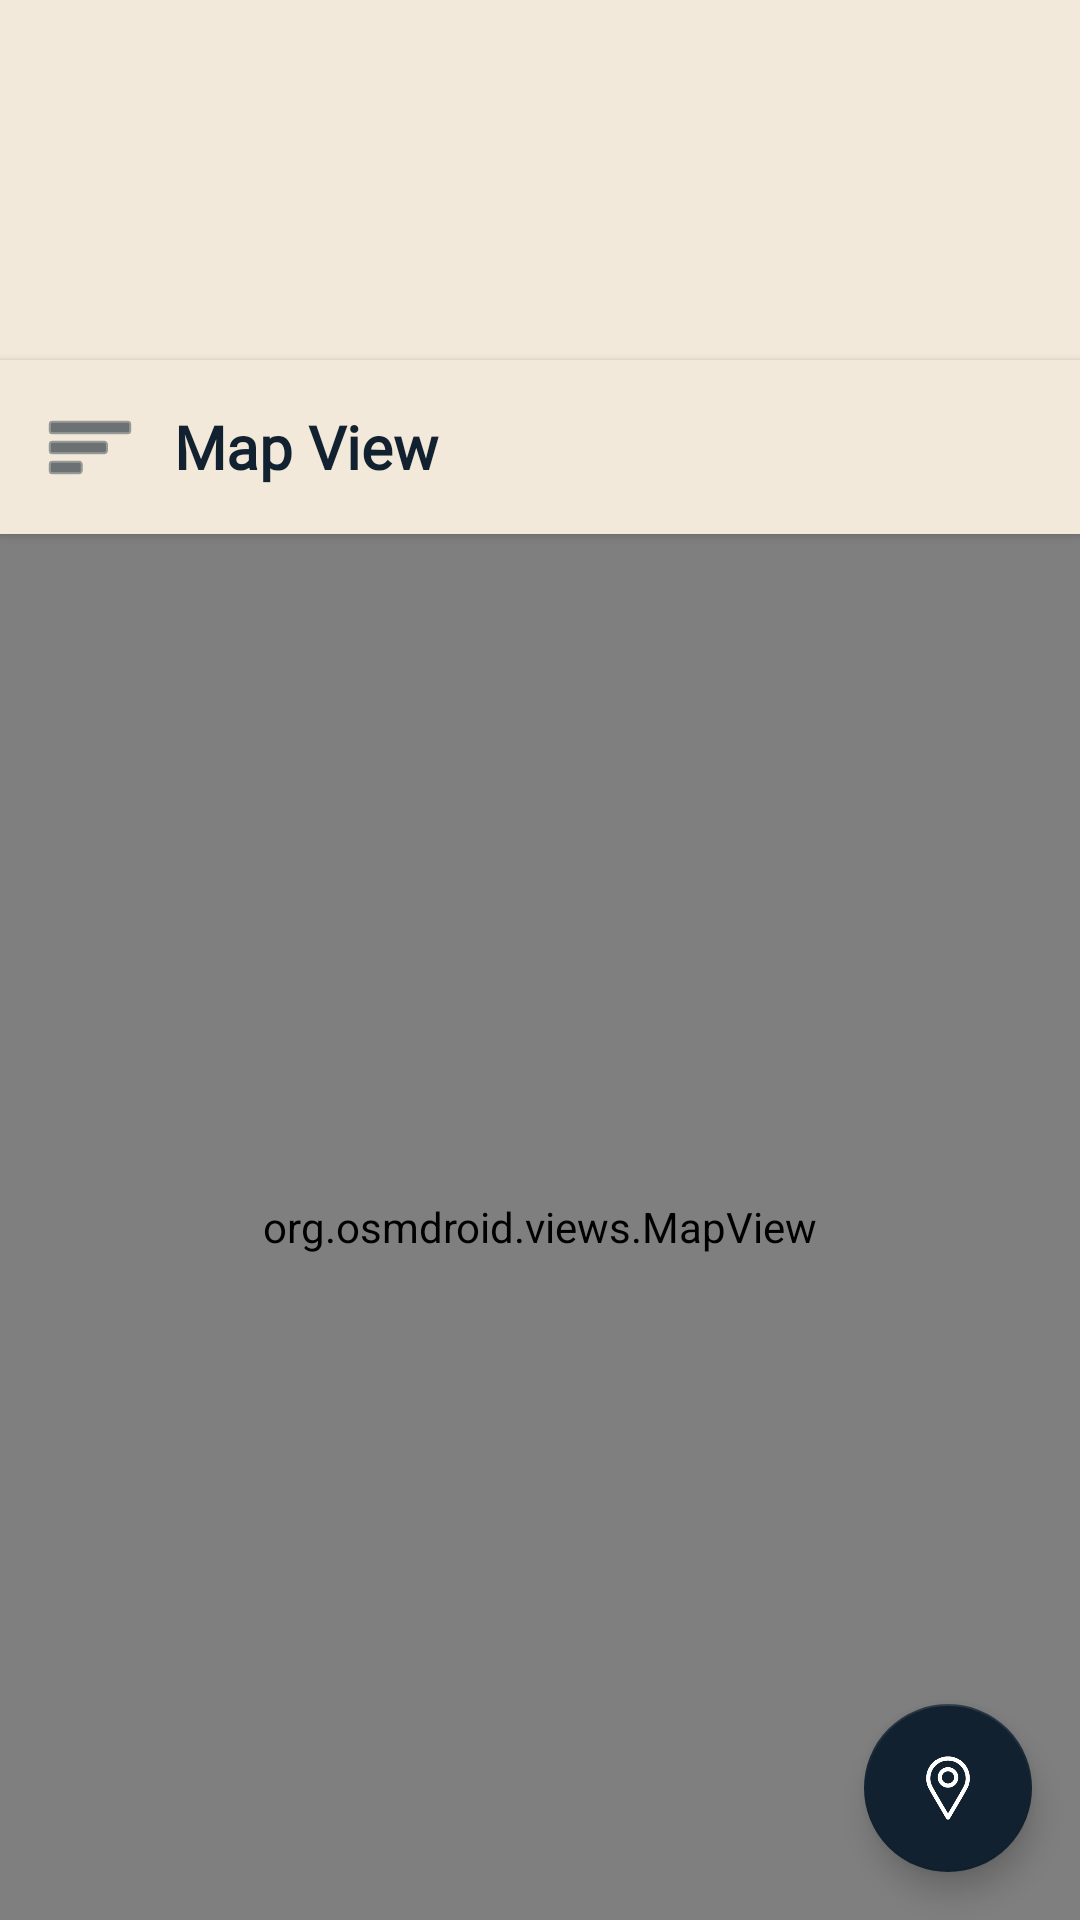

Icon bounding boxes for this 1080×1920 phone screenshot, format {"left": x1, "top": y1, "right": x2, "bottom": y2}:
Center Map: {"left": 864, "top": 1704, "right": 1032, "bottom": 1872}
Menu: {"left": 49, "top": 421, "right": 131, "bottom": 474}
